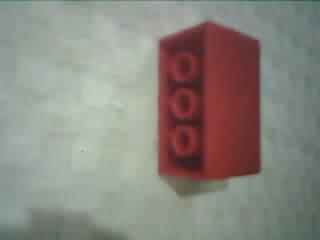lego: (156, 19, 261, 182)
